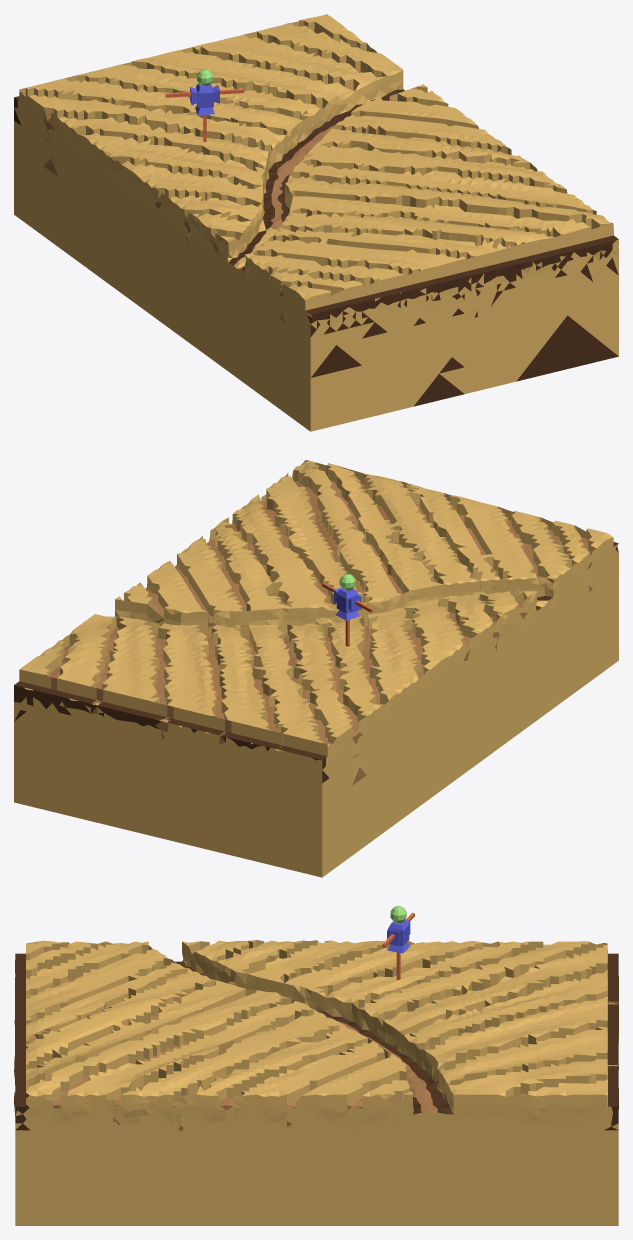
Rendered from Map 1-1.fbx.
The picture shows the model from 3 angles, top to bottom: view 1: azimuth 30°, elevation 25°; view 2: azimuth 150°, elevation 25°; view 3: azimuth 270°, elevation 25°; orthographic projection.
Parts seen in each view (by area): view 1: Cube.001, Cube; view 2: Cube.001, Cube; view 3: Cube.001, Cube.
Boxes of the visible parts, x1,y1,x2,y2 form: Cube.001: [14, 14, 618, 431]; Cube: [165, 69, 244, 142]; Cube.001: [14, 460, 618, 877]; Cube: [322, 574, 373, 646]; Cube.001: [14, 940, 618, 1225]; Cube: [382, 906, 414, 979].
Size of the model in its own units: 603 by 379 by 1002.
